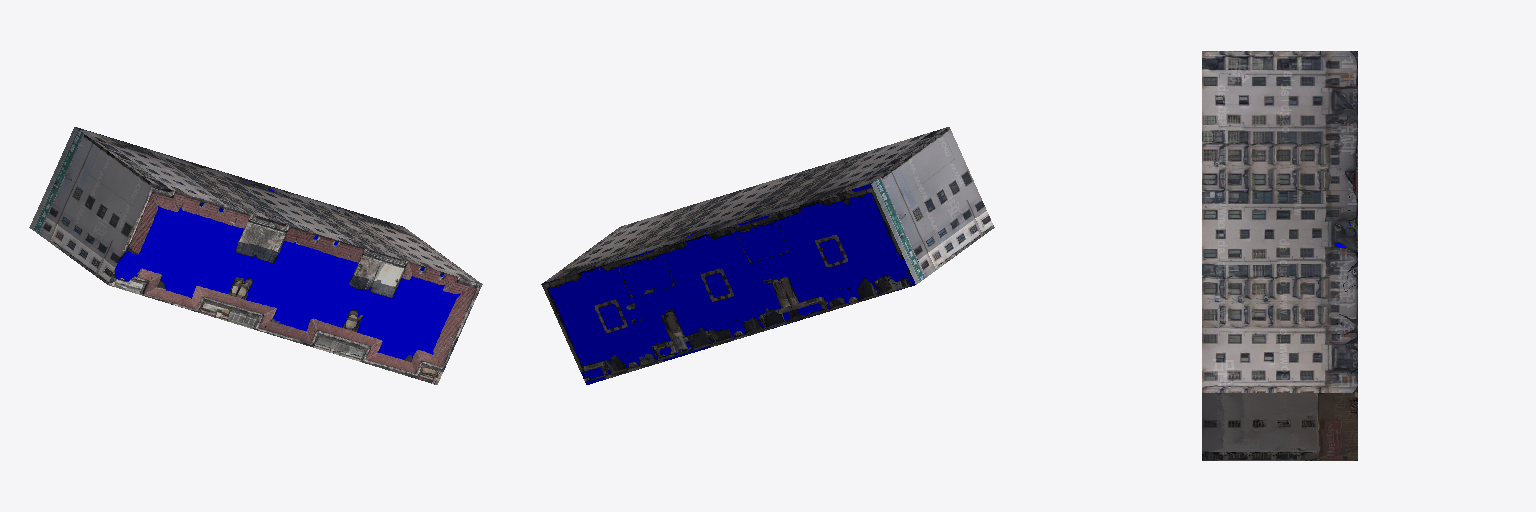
The picture shows the model from 3 angles: view 1: azimuth 30°, elevation 25°; view 2: azimuth 150°, elevation 25°; view 3: azimuth 270°, elevation 25°; orthographic projection.
Visible parts, largest first — view 1: grp21, grp9, grp13; view 2: grp17, grp9, grp13; view 3: grp9, grp5.
Boxes of the visible parts, x1,y1,x2,y2 form: grp21: [108, 184, 482, 384]; grp9: [76, 127, 481, 283]; grp13: [29, 127, 152, 284]; grp17: [541, 184, 915, 384]; grp9: [542, 127, 947, 283]; grp13: [871, 127, 994, 284]; grp9: [1202, 51, 1357, 392]; grp5: [1202, 393, 1357, 460].
Size of the model in its own units: 53.47 by 36.93 by 19.4.
6 materials, 6 textured.